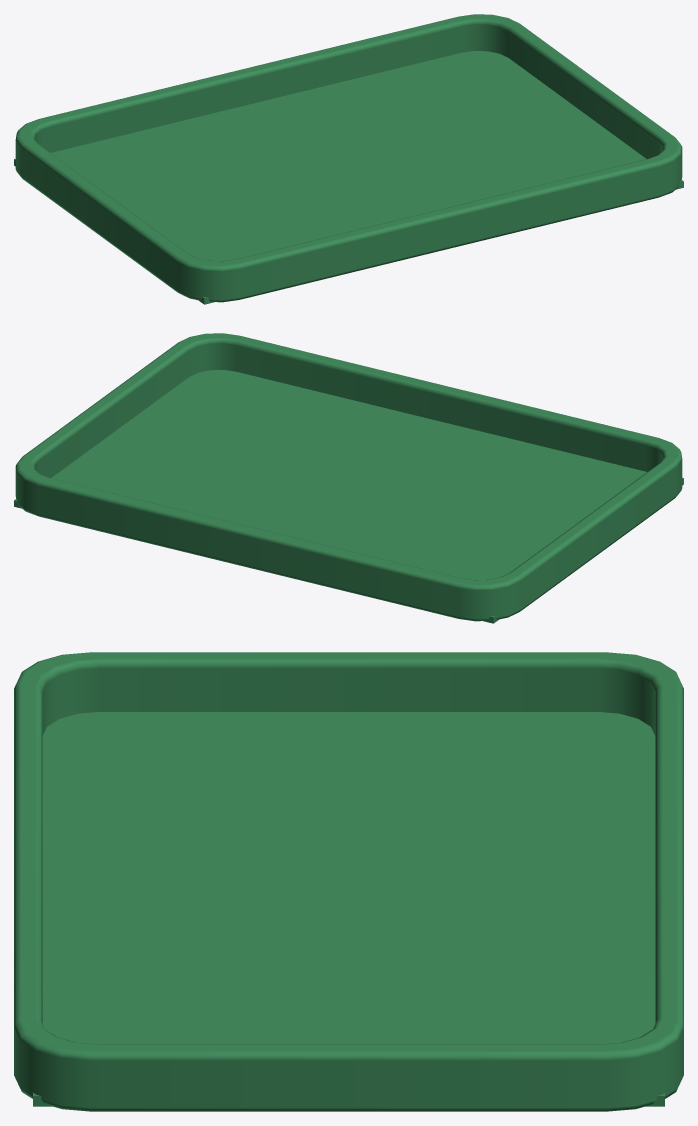
The model's file is TrayGreen.glb.
The picture shows the model from 3 angles, top to bottom: view 1: azimuth 30°, elevation 25°; view 2: azimuth 150°, elevation 25°; view 3: azimuth 270°, elevation 25°; orthographic projection. The views are drawn at different scales.
Parts seen in each view (by area): view 1: TrayGreen_Body; view 2: TrayGreen_Body; view 3: TrayGreen_Body.
Part boxes in pixels (x1,y1,x2,y2): TrayGreen_Body: (14, 14, 683, 304); TrayGreen_Body: (14, 333, 683, 623); TrayGreen_Body: (14, 652, 683, 1111).
Bounding box in the file's own units: 0.5 × 0.035 × 0.35.
